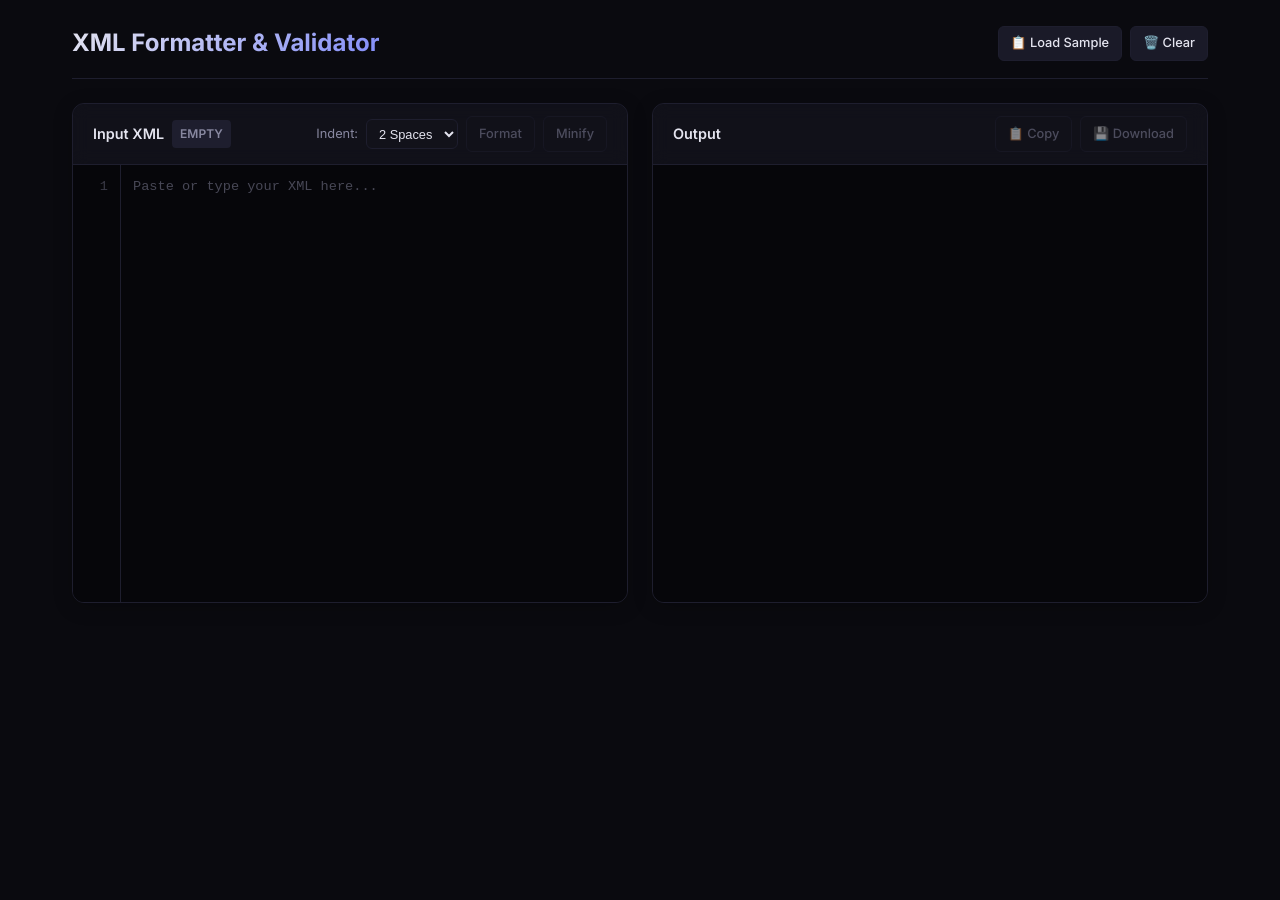
Test: XmlTool Clear & Sample Load › loads sample XML when load sample button is clicked
Click the button with aria-label "Load sample XML" at {"x": 1060, "y": 43}, box [998, 26, 1122, 61]
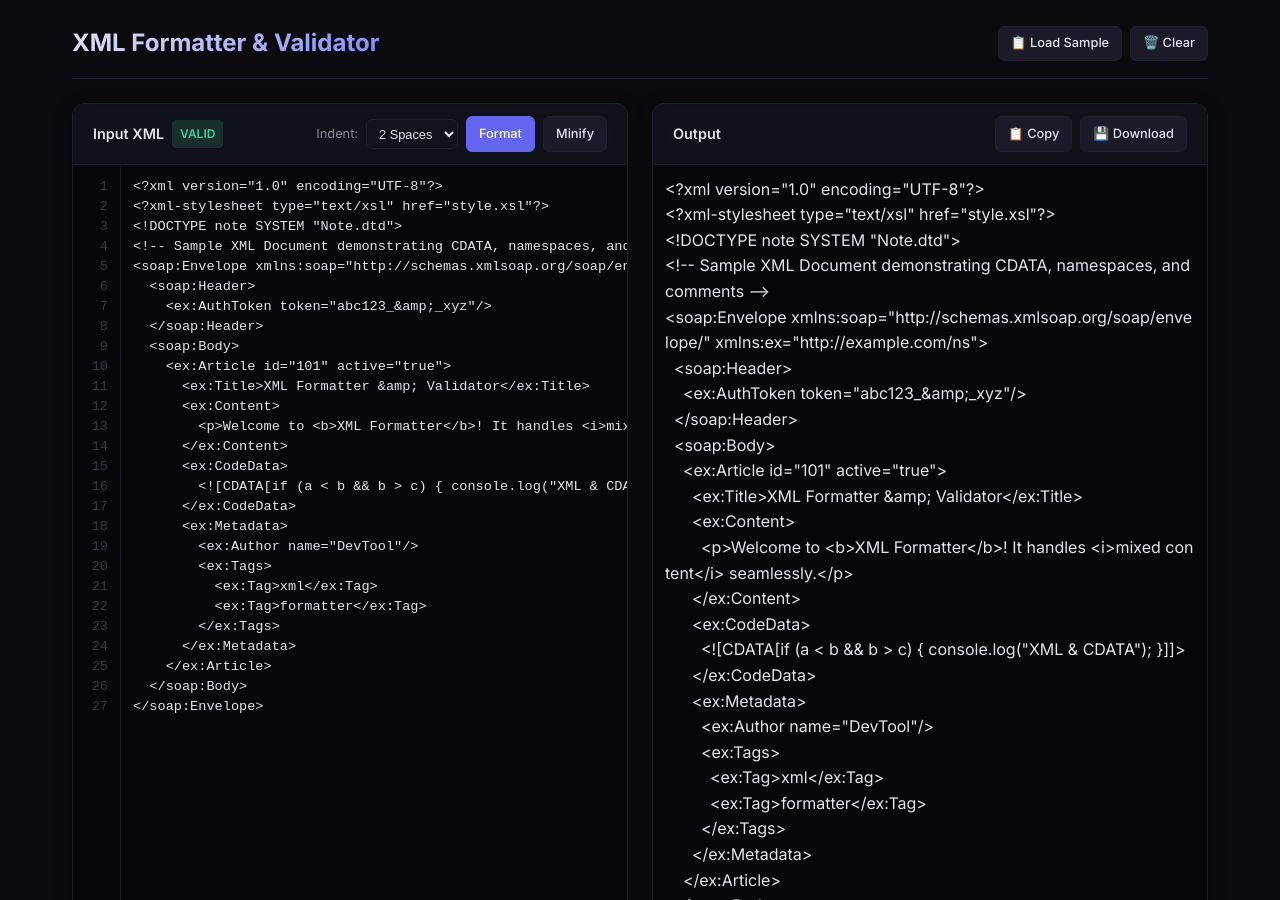
expect the text "Valid" is shown: met, box [172, 120, 223, 148]
